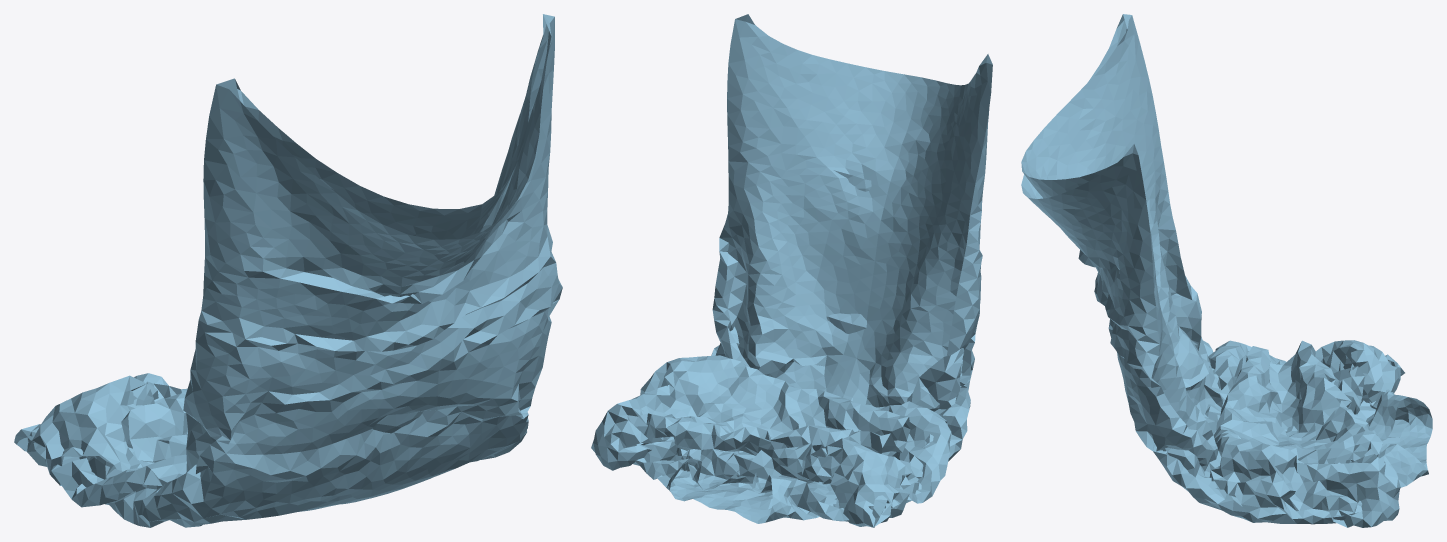
The model's file is frame_10.glb.
3 views of the same model, side by side, from view 1: azimuth 30°, elevation 25°; view 2: azimuth 150°, elevation 25°; view 3: azimuth 270°, elevation 25° (orthographic). The views are drawn at different scales.
Parts seen in each view (by area): view 1: frame_10.obj; view 2: frame_10.obj; view 3: frame_10.obj.
Boxes of the visible parts, x1,y1,x2,y2 form: frame_10.obj: (14,14,562,527); frame_10.obj: (591,14,992,527); frame_10.obj: (1021,14,1432,527).
Size of the model in its own units: 0.9376 by 1.12 by 1.08.
